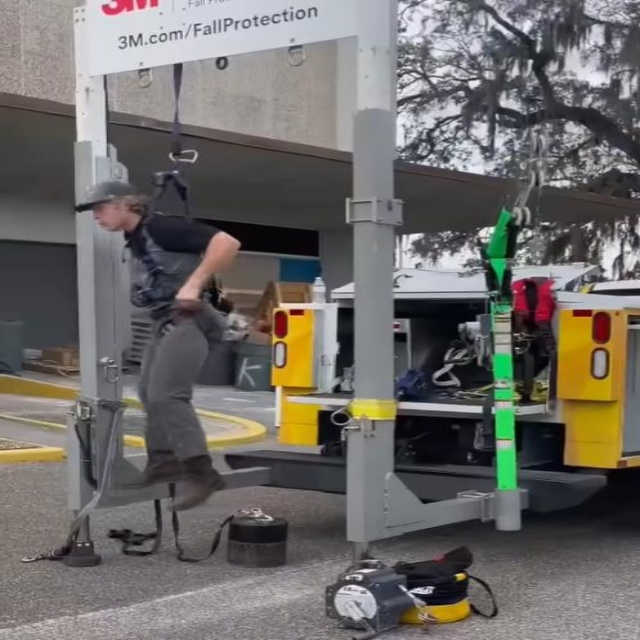Arnes_seguridad: (121, 211, 224, 339)
